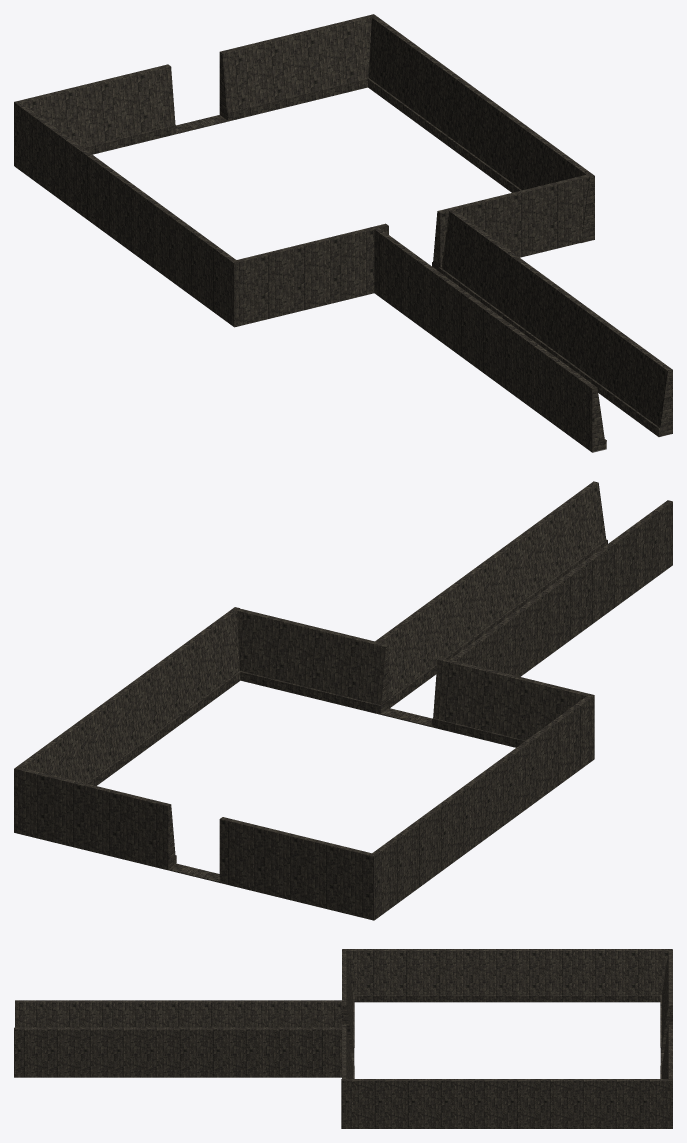
Rendered from roomoneexit.fbx.
The picture shows the model from 3 angles, top to bottom: view 1: azimuth 30°, elevation 25°; view 2: azimuth 150°, elevation 25°; view 3: azimuth 270°, elevation 25°; orthographic projection. The views are drawn at different scales.
Visible parts, largest first — view 1: pCube12; view 2: pCube12; view 3: pCube12.
Part boxes in pixels (bbox=[...]): pCube12: bbox=[14, 14, 672, 452]; pCube12: bbox=[14, 481, 672, 920]; pCube12: bbox=[14, 949, 672, 1128].
Bounding box in the file's own units: 70.74 × 12 × 149.
